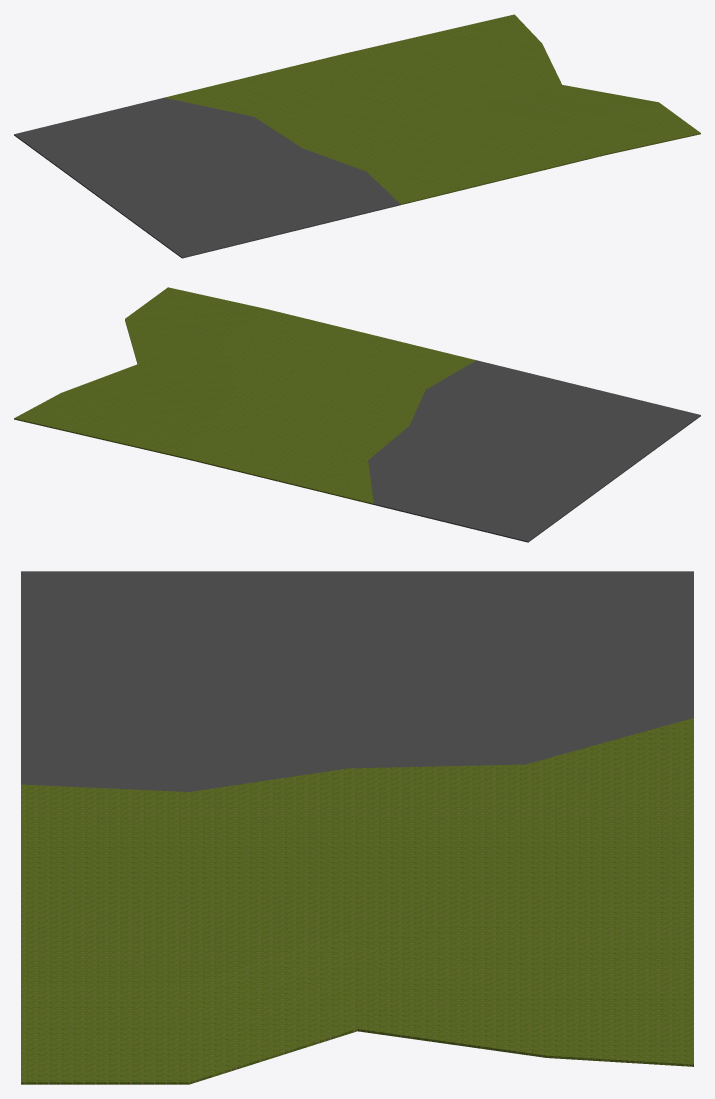
The picture shows the model from 3 angles, top to bottom: view 1: azimuth 30°, elevation 25°; view 2: azimuth 150°, elevation 25°; view 3: azimuth 270°, elevation 25°; orthographic projection. The views are drawn at different scales.
Visible parts, largest first — view 1: d-1_base_plate-col; view 2: d-1_base_plate-col; view 3: d-1_base_plate-col.
Boxes of the visible parts, left/top/right/bottom form: d-1_base_plate-col: left=14, top=14, right=700, bottom=258; d-1_base_plate-col: left=14, top=287, right=700, bottom=542; d-1_base_plate-col: left=21, top=571, right=693, bottom=1084.
Bounding box in the file's own units: 456 × 2.92 × 256.
2 materials, 1 textured.
